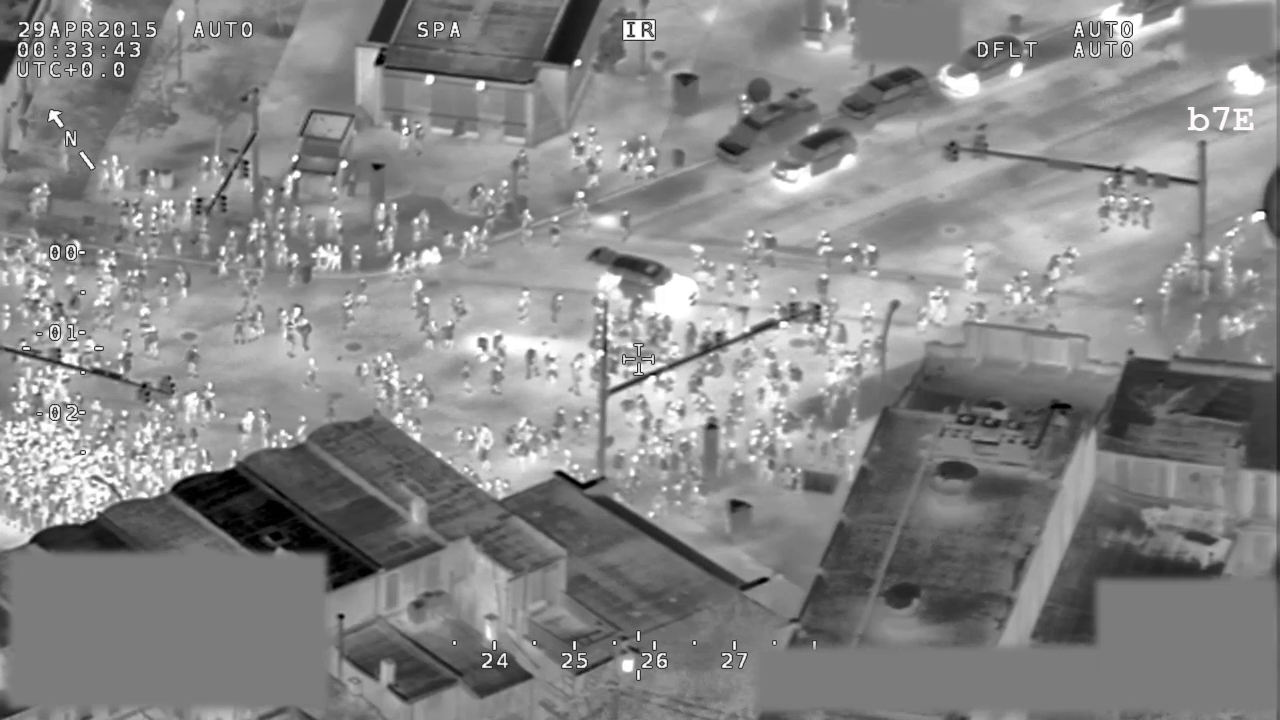vehicle: (711, 73, 831, 175), (579, 238, 707, 322), (931, 32, 1033, 101), (833, 64, 933, 129), (763, 125, 862, 186)
